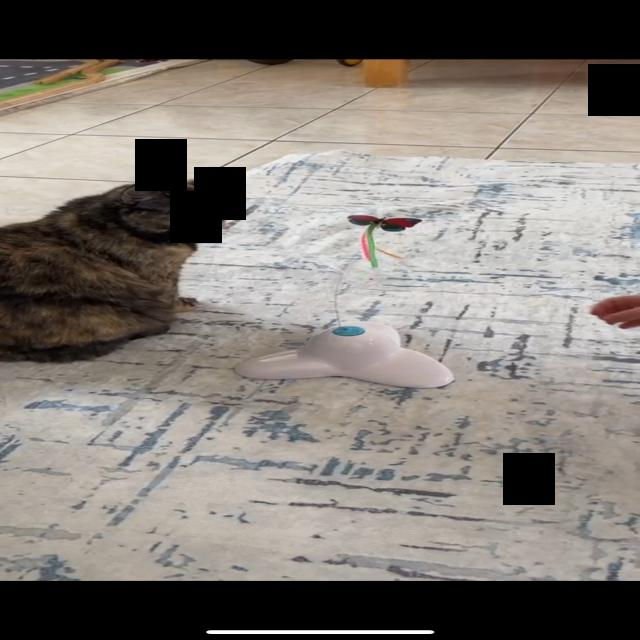authorized: (0, 169, 234, 364)
